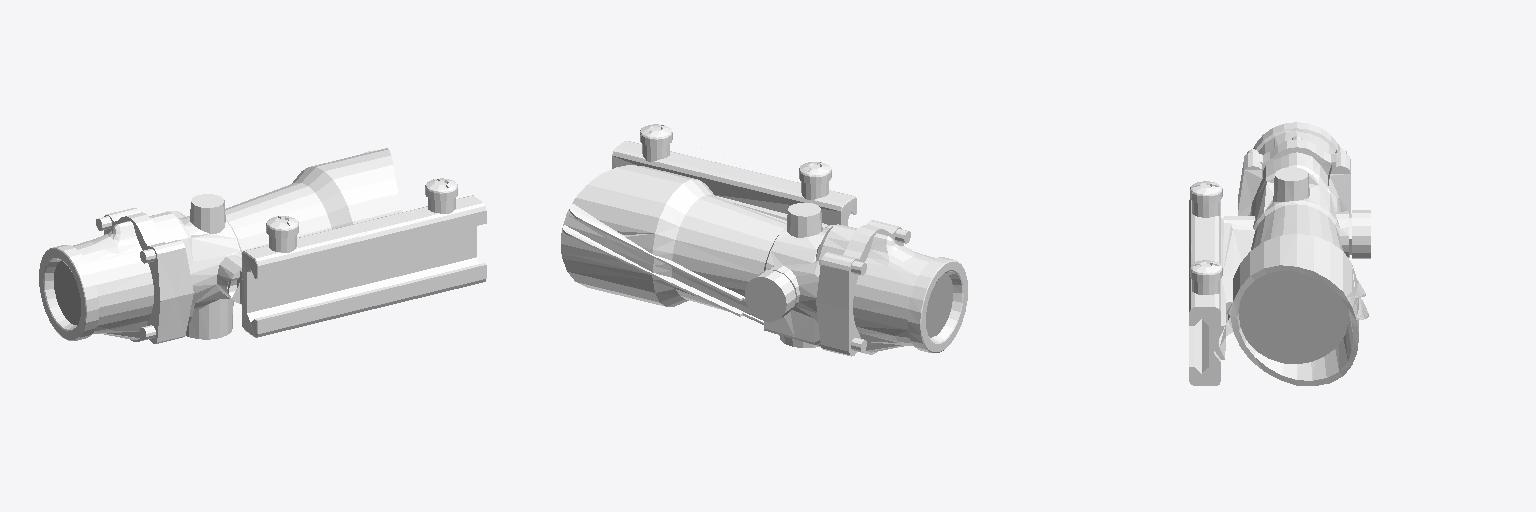
The model's file is acog.obj.
3 renders of one model, left to right at view 1: azimuth 30°, elevation 25°; view 2: azimuth 150°, elevation 25°; view 3: azimuth 270°, elevation 25°, orthographic.
Visible parts, largest first — view 1: attachmentModel, scopeModel; view 2: attachmentModel, scopeModel; view 3: attachmentModel, overlayModel.
Part boxes in pixels (left/top/right/bottom): attachmentModel: left=39, top=148, right=486, bottom=343; scopeModel: left=54, top=261, right=80, bottom=324; attachmentModel: left=561, top=124, right=967, bottom=356; scopeModel: left=926, top=273, right=952, bottom=337; attachmentModel: left=1189, top=122, right=1370, bottom=385; overlayModel: left=1239, top=271, right=1348, bottom=363.
Size of the model in its own units: 4.16 by 1.41 by 1.77.